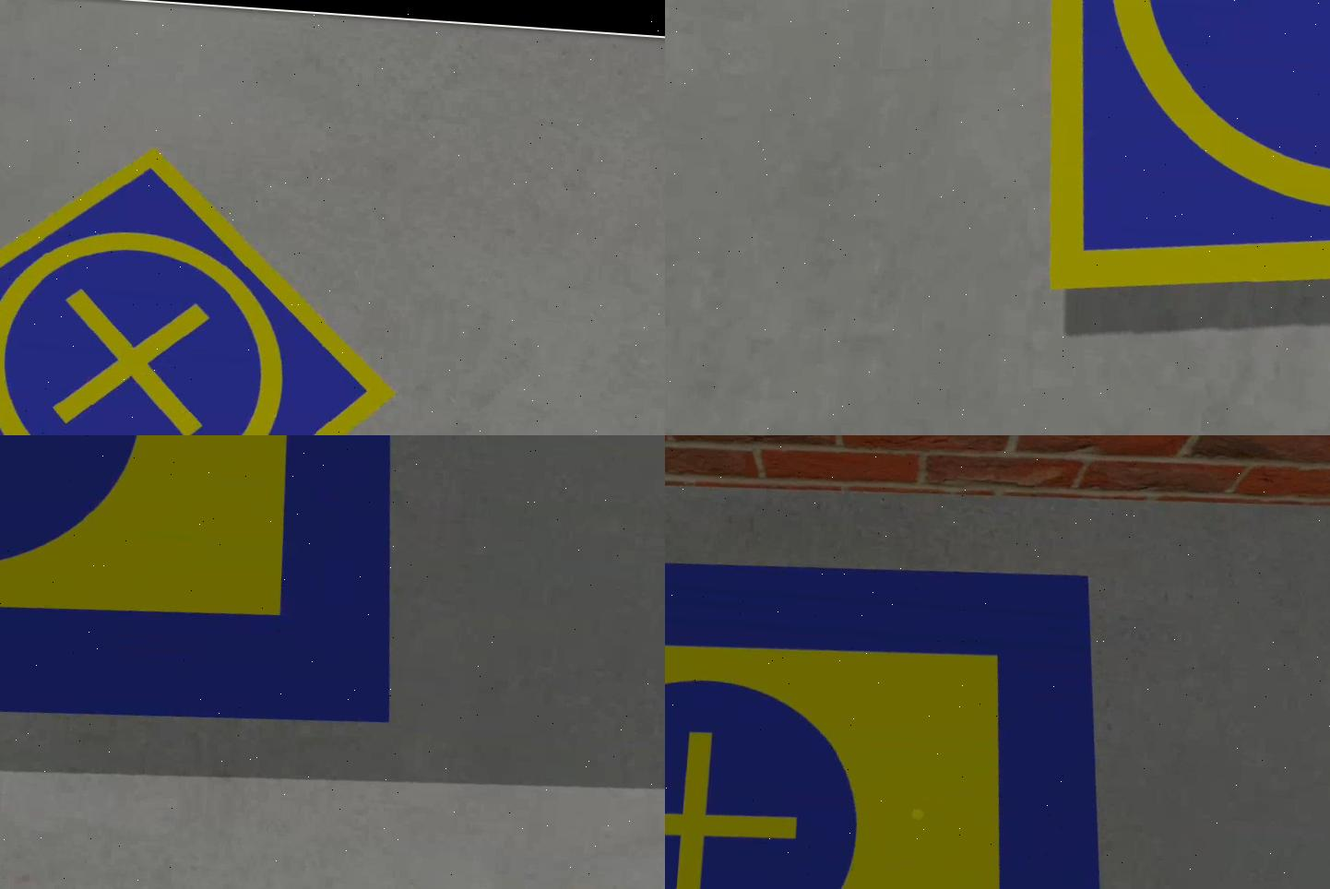large_base: (666, 521, 1151, 889), (1, 436, 428, 754)
small_base: (1, 133, 421, 436), (1011, 1, 1330, 339)
